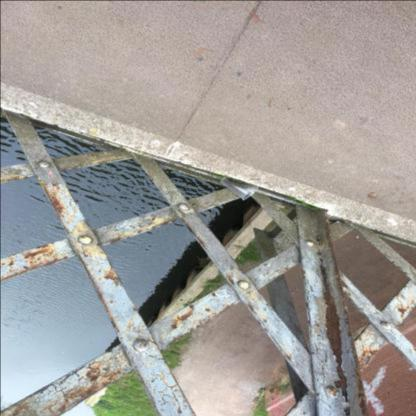Cup: (220, 177, 258, 200)
